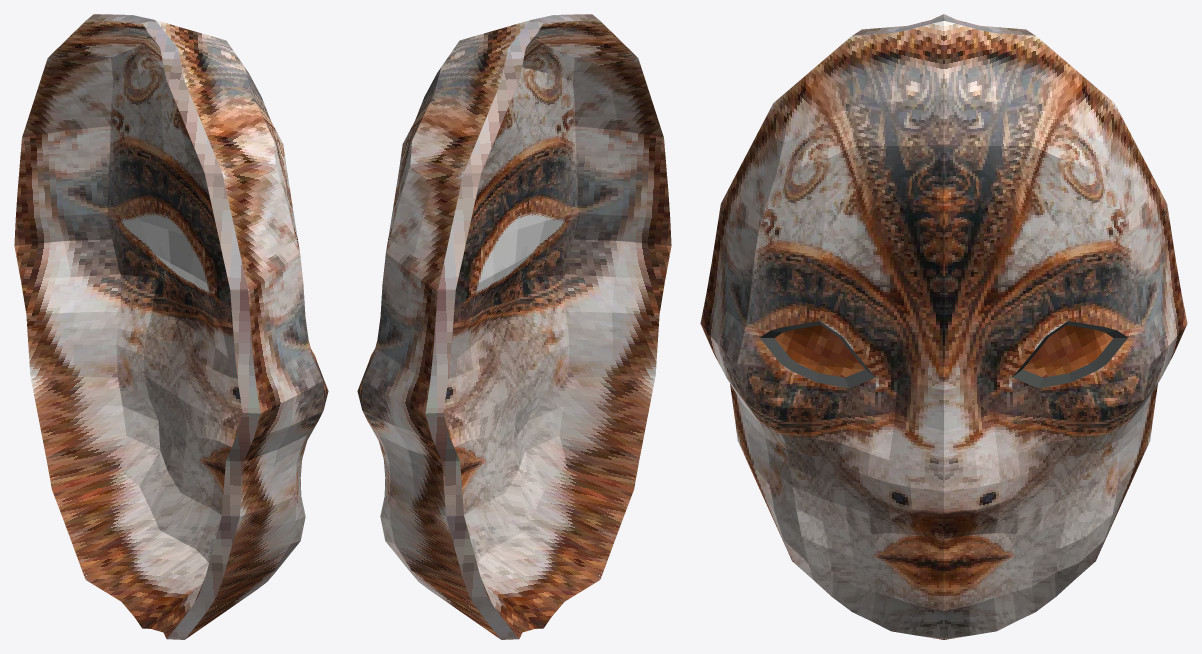
File: mask3.glb
3 views of the same model, side by side, from view 1: azimuth 30°, elevation 25°; view 2: azimuth 150°, elevation 25°; view 3: azimuth 270°, elevation 25° (orthographic). The views are drawn at different scales.
Visible parts, largest first — view 1: mask3-col; view 2: mask3-col; view 3: mask3-col.
Part boxes in pixels (box(x1,y1,x2,y2)): mask3-col: box(14, 14, 328, 639); mask3-col: box(357, 14, 671, 639); mask3-col: box(700, 14, 1187, 639).
Size of the model in its own units: 0.466 by 1.7 by 1.21.
2 materials, 1 textured.
